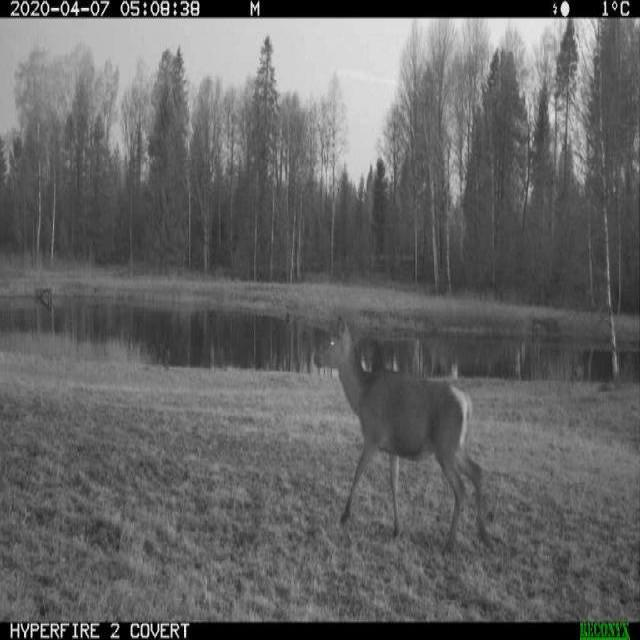deer: (303, 300, 494, 553)
